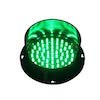green: (68, 29, 85, 48)
